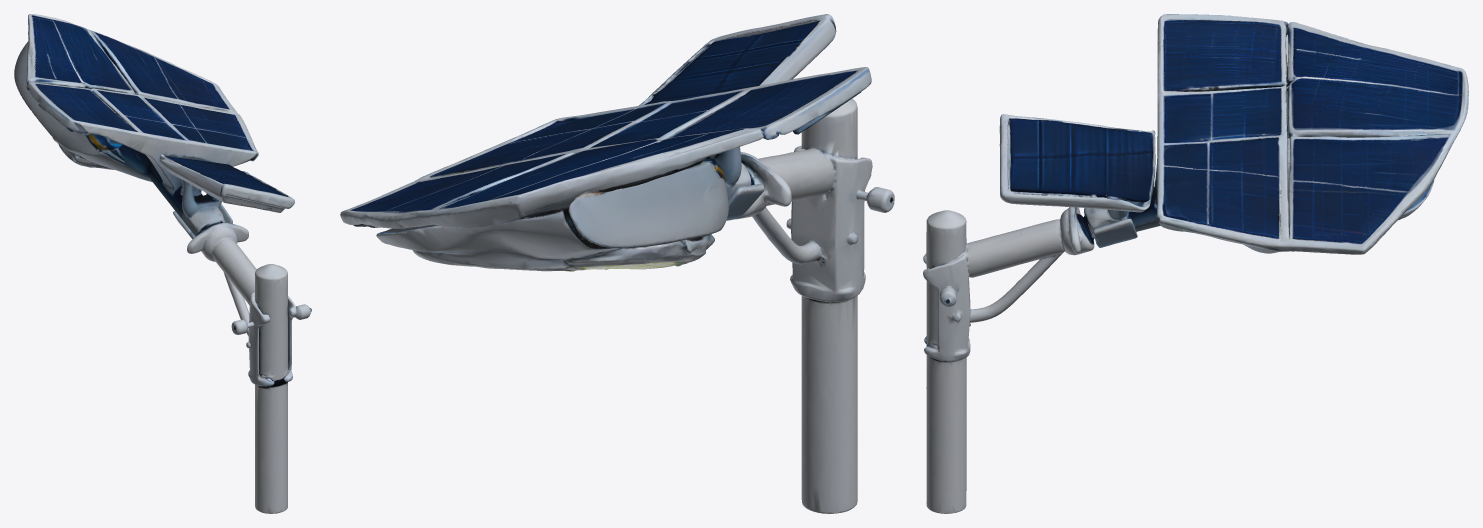
The model's file is plaza-lamp-solar.glb.
3 renders of one model, left to right at view 1: azimuth 30°, elevation 25°; view 2: azimuth 150°, elevation 25°; view 3: azimuth 270°, elevation 25°, orthographic. The views are drawn at different scales.
Visible parts, largest first — view 1: tripo_node_95a22123-302b-49cb-8e96-10eb8f126ac4; view 2: tripo_node_95a22123-302b-49cb-8e96-10eb8f126ac4; view 3: tripo_node_95a22123-302b-49cb-8e96-10eb8f126ac4.
Boxes of the visible parts, bbox=[...] form: tripo_node_95a22123-302b-49cb-8e96-10eb8f126ac4: bbox=[14, 14, 311, 513]; tripo_node_95a22123-302b-49cb-8e96-10eb8f126ac4: bbox=[340, 14, 894, 513]; tripo_node_95a22123-302b-49cb-8e96-10eb8f126ac4: bbox=[923, 14, 1468, 513].
Size of the model in its own units: 3.49 by 5 by 5.82.
Materials: 1 (1 with a texture image).
